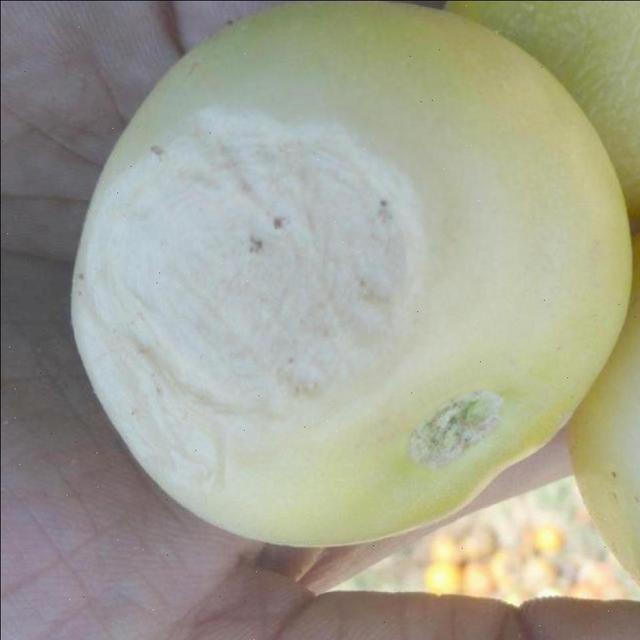Sunscald Fruit: (42, 79, 286, 330)
